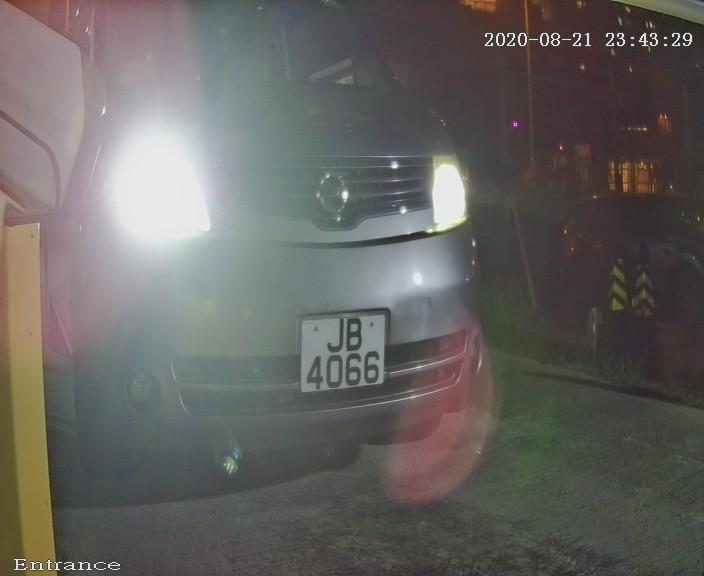License Plate: (287, 301, 403, 404)
